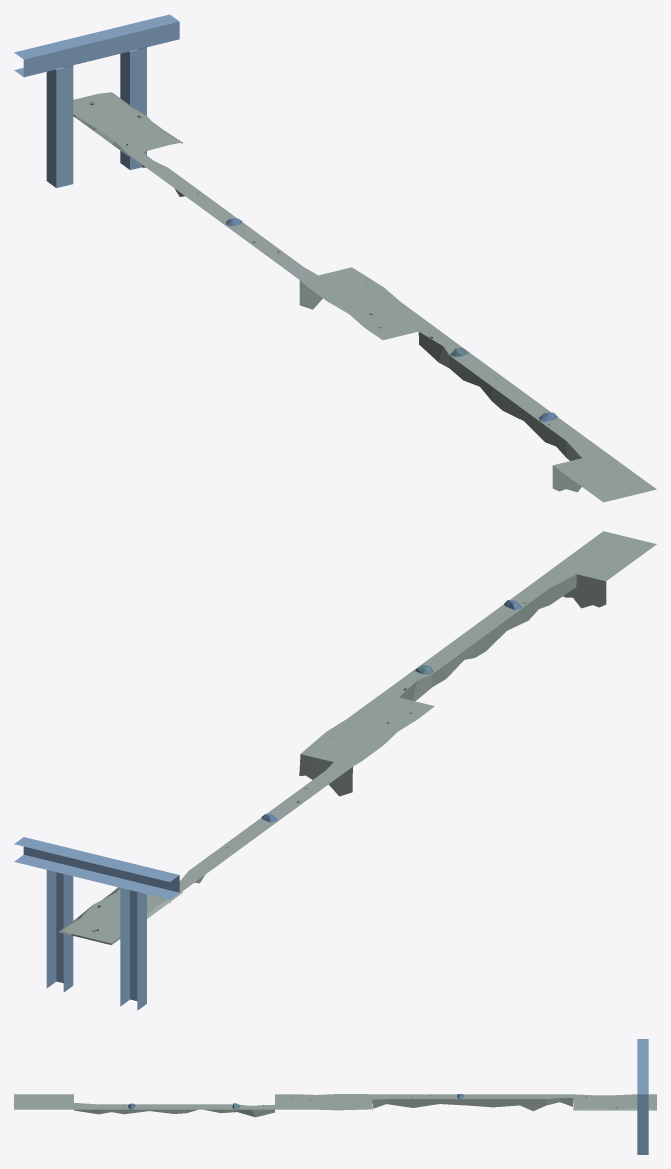
The model's file is obstacle 1.fbx.
3 views of the same model, one above another, from view 1: azimuth 30°, elevation 25°; view 2: azimuth 150°, elevation 25°; view 3: azimuth 270°, elevation 25° (orthographic). The views are drawn at different scales.
Parts seen in each view (by area): view 1: Камни 3, Cube.004; view 2: Камни 3, Cube.004; view 3: Камни 3, Cube.004.
Boxes of the visible parts, bbox=[...] form: Камни 3: bbox=[73, 92, 656, 502]; Cube.004: bbox=[14, 14, 179, 187]; Камни 3: bbox=[58, 531, 656, 944]; Cube.004: bbox=[14, 837, 179, 1010]; Камни 3: bbox=[14, 1094, 656, 1117]; Cube.004: bbox=[637, 1039, 648, 1154].
Size of the model in its own units: 41261 by 34538 by 249961.
